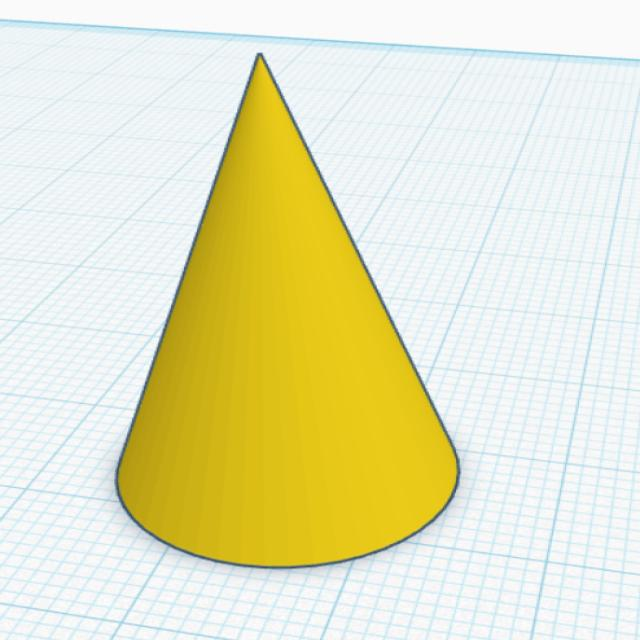cone: (109, 49, 466, 572)
